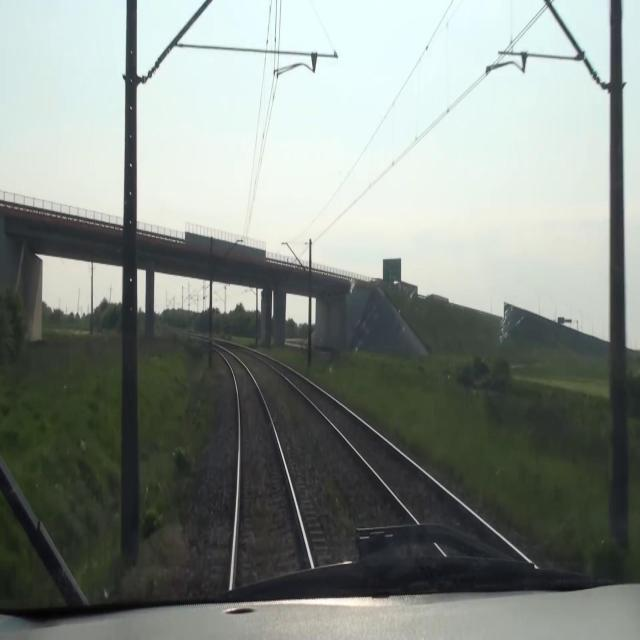rail-track: (271, 361, 505, 548), (219, 348, 310, 588)
